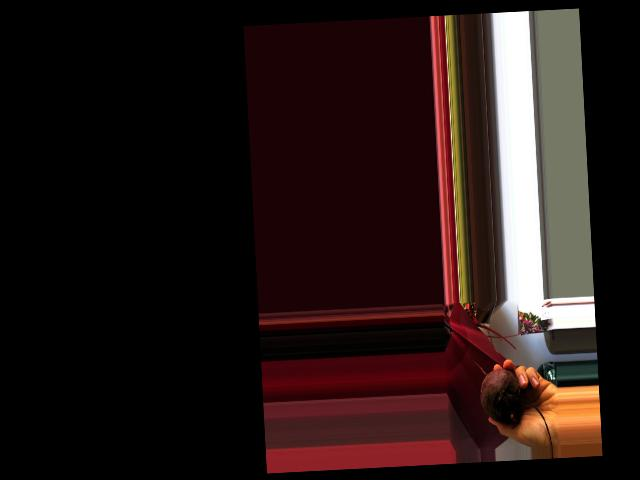beet: (471, 355, 552, 449)
